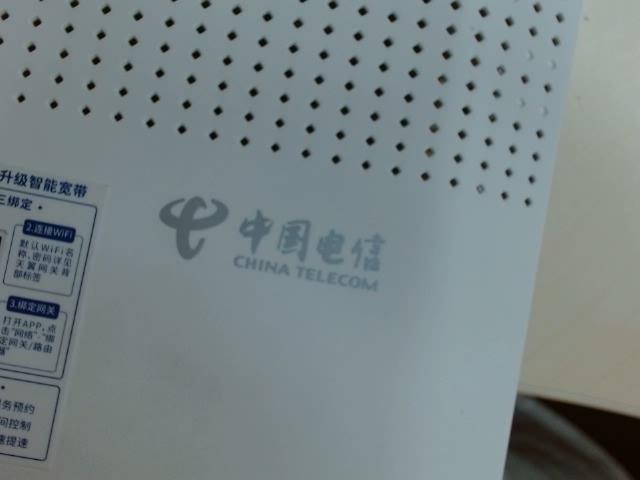AB_ChinaTelecom: (140, 180, 402, 304)
